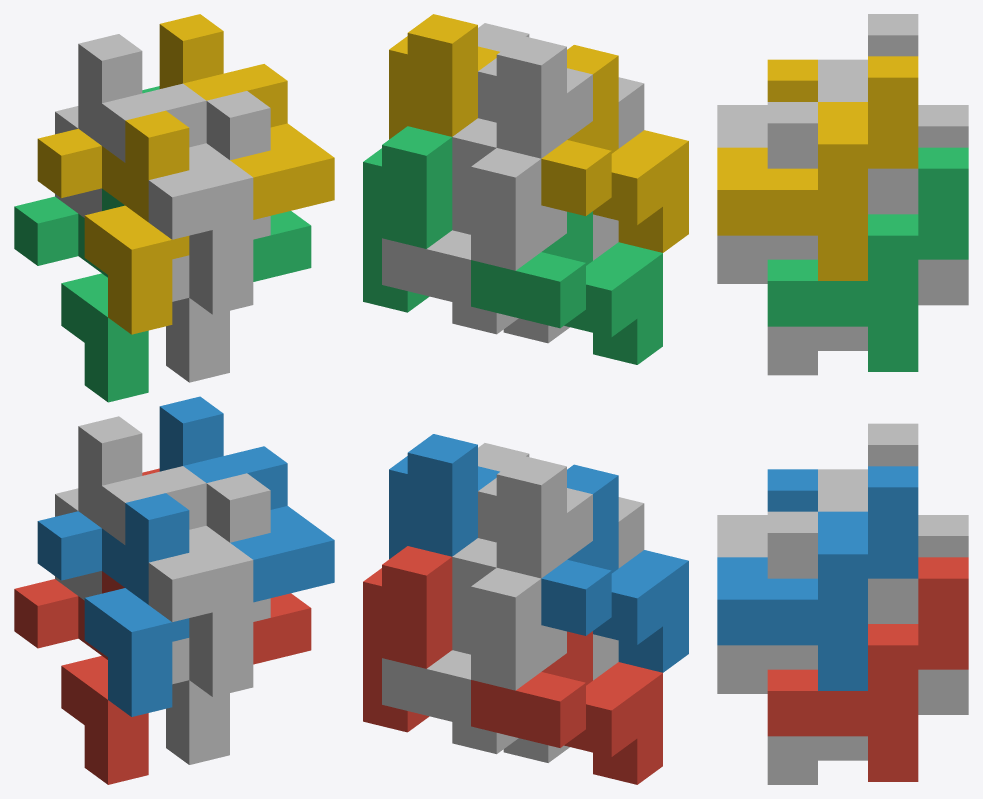
Rendered from tiling.obj.
3 views of the same model, side by side, from view 1: azimuth 30°, elevation 25°; view 2: azimuth 150°, elevation 25°; view 3: azimuth 270°, elevation 25° (orthographic). The views are drawn at different scales.
Parts seen in each view (by area): view 1: copy_1_domain_2, copy_1_domain_4, copy_2_domain_2, copy_2_domain_4, copy_2_domain_6, copy_2_domain_8, copy_1_domain_3, copy_1_domain_1, copy_1_domain_8, copy_1_domain_6, copy_1_domain_5, copy_1_domain_7 (+4 smaller); view 2: copy_1_domain_3, copy_1_domain_1, copy_1_domain_2, copy_1_domain_4, copy_2_domain_4, copy_2_domain_2, copy_2_domain_1, copy_2_domain_3, copy_2_domain_5, copy_2_domain_7, copy_2_domain_6, copy_2_domain_8 (+4 smaller); view 3: copy_2_domain_6, copy_2_domain_8, copy_2_domain_7, copy_2_domain_5, copy_1_domain_6, copy_1_domain_8, copy_2_domain_2, copy_2_domain_4, copy_1_domain_7, copy_1_domain_5, copy_1_domain_2, copy_2_domain_1 (+2 smaller).
Boxes of the visible parts, x1=… form: copy_1_domain_2: x1=37, y1=493, x2=189, y2=716; copy_1_domain_4: x1=37, y1=110, x2=189, y2=334; copy_2_domain_2: x1=78, y1=416, x2=253, y2=622; copy_2_domain_4: x1=78, y1=34, x2=253, y2=239; copy_2_domain_6: x1=159, y1=396, x2=334, y2=602; copy_2_domain_8: x1=159, y1=14, x2=334, y2=219; copy_1_domain_3: x1=14, y1=188, x2=148, y2=402; copy_1_domain_1: x1=14, y1=571, x2=148, y2=784; copy_1_domain_8: x1=189, y1=91, x2=270, y2=314; copy_1_domain_6: x1=189, y1=473, x2=270, y2=697; copy_1_domain_5: x1=166, y1=680, x2=229, y2=764; copy_1_domain_7: x1=166, y1=298, x2=229, y2=382; copy_1_domain_3: x1=471, y1=211, x2=662, y2=364; copy_1_domain_1: x1=471, y1=631, x2=662, y2=784; copy_1_domain_2: x1=541, y1=464, x2=688, y2=672; copy_1_domain_4: x1=541, y1=45, x2=688, y2=252; copy_2_domain_4: x1=478, y1=35, x2=644, y2=158; copy_2_domain_2: x1=478, y1=455, x2=644, y2=578; copy_2_domain_1: x1=452, y1=568, x2=618, y2=754; copy_2_domain_3: x1=452, y1=148, x2=618, y2=334; copy_2_domain_5: x1=363, y1=546, x2=452, y2=732; copy_2_domain_7: x1=363, y1=126, x2=452, y2=312; copy_2_domain_6: x1=389, y1=434, x2=499, y2=559; copy_2_domain_8: x1=389, y1=14, x2=499, y2=139; copy_2_domain_6: x1=717, y1=466, x2=918, y2=690; copy_2_domain_8: x1=717, y1=56, x2=918, y2=280; copy_2_domain_7: x1=767, y1=147, x2=968, y2=371; copy_2_domain_5: x1=767, y1=557, x2=968, y2=781; copy_1_domain_6: x1=717, y1=511, x2=918, y2=693; copy_1_domain_8: x1=717, y1=102, x2=918, y2=283; copy_2_domain_2: x1=717, y1=423, x2=918, y2=557; copy_2_domain_4: x1=717, y1=14, x2=918, y2=147; copy_1_domain_7: x1=767, y1=259, x2=968, y2=375; copy_1_domain_5: x1=767, y1=669, x2=968, y2=784; copy_1_domain_2: x1=767, y1=469, x2=817, y2=511; copy_2_domain_1: x1=918, y1=515, x2=968, y2=557.
Bounding box in the file's own units: 5 × 16 × 5.
